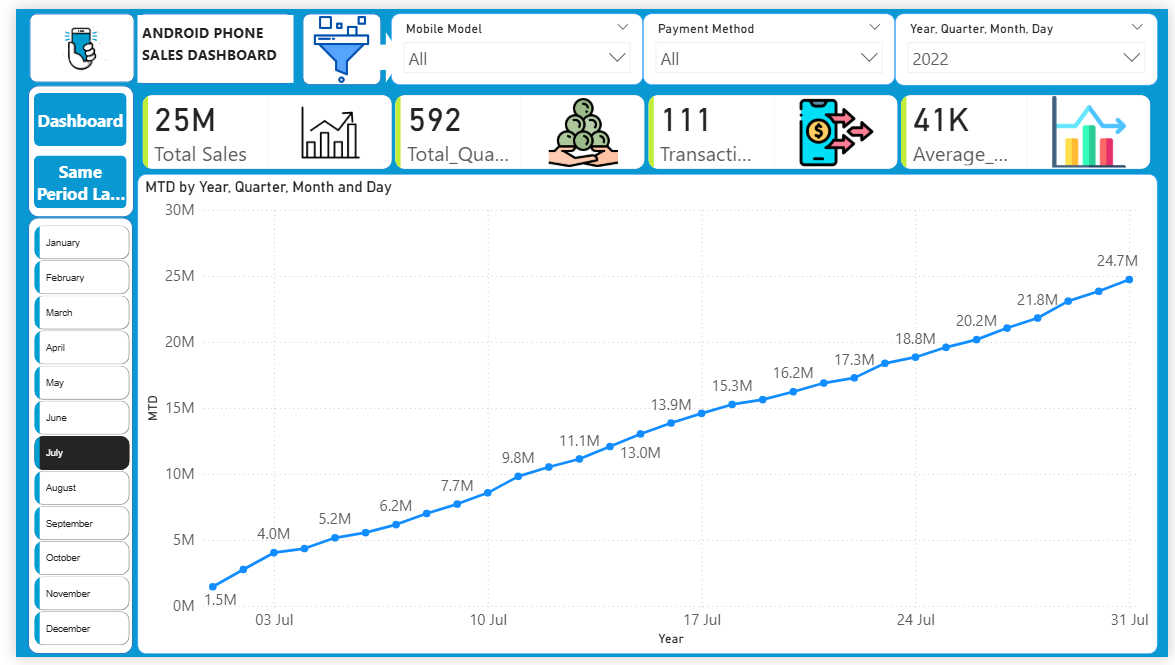

The page's visual inventory and layout, read from the dashboard file:
{"tool":"powerbi","page":{"name":"MTD Report","canvas":[1280,720],"ordinal":1},"visuals":[{"type":"shape","box":[13.3,231.7,116.7,485],"z":0},{"type":"shape","box":[15,5,116.7,76.7],"z":1000},{"type":"image","box":[0,13.3,145,65],"z":2000},{"type":"shape","box":[12.7,84.3,117.7,146.3],"z":3000},{"type":"cardVisual","fields":{"Data":["Android Smartphone Sales Report.Total Sales","Android Smartphone Sales Report.Total_Quantity","Android Smartphone Sales Report.Transactions","Android Smartphone Sales Report.Average_Price"]},"box":[123.3,78.3,1156.7,116.7],"z":4000},{"type":"slicer","fields":{"Values":["Android Smartphone Sales Report.Mobile Model"]},"box":[416.7,4.8,279.9,79.5],"z":5000},{"type":"slicer","fields":{"Values":["Android Smartphone Sales Report.Payment Method"]},"box":[696.7,4.8,279.9,79.5],"z":6000},{"type":"slicer","fields":{"Values":["Custom Calender.Date.Variation.Date Hierarchy.Year","Custom Calender.Date.Variation.Date Hierarchy.Quarter","Custom Calender.Date.Variation.Date Hierarchy.Month","Custom Calender.Date.Variation.Date Hierarchy.Day"]},"box":[976.7,5,291.7,80],"z":7000},{"type":"shape","box":[318.1,4.8,87.5,79.5],"z":8000},{"type":"image","box":[308.6,6.4,106.6,76.3],"z":9000},{"type":"shape","box":[391.3,25.4,38.2,57.3],"z":10000},{"type":"shape","box":[135,5,173.3,78.3],"z":11000},{"type":"textbox","box":[135,6.7,173.3,75],"z":12000},{"type":"lineChart","fields":{"Y":["Android Smartphone Sales Report.MTD"],"Category":["Custom Calender.Date.Variation.Date Hierarchy.Year","Custom Calender.Date.Variation.Date Hierarchy.Quarter","Custom Calender.Date.Variation.Date Hierarchy.Month","Custom Calender.Date.Variation.Date Hierarchy.Day"]},"box":[135,183.3,1133.3,533.3],"z":13000},{"type":"advancedSlicerVisual","fields":{"Values":["Custom Calender.Date.Variation.Date Hierarchy.Month"]},"box":[15,235,116.7,485],"z":14000},{"type":"pageNavigator","box":[20,93.3,103.3,128.3],"z":14001}]}

Visuals, with their boxes in screenshot pixels (x1, y1, x2, y2), scaled from the page's 1280x720 canvas onto the 1175x665 screenshot:
shape: [left=12, top=214, right=119, bottom=662]
shape: [left=14, top=5, right=121, bottom=75]
image: [left=0, top=12, right=133, bottom=72]
shape: [left=12, top=78, right=120, bottom=213]
cardVisual - Android Smartphone Sales Report.Total Sales x Android Smartphone Sales Report.Total_Quantity: [left=113, top=72, right=1174, bottom=180]
slicer - Android Smartphone Sales Report.Mobile Model: [left=383, top=4, right=639, bottom=78]
slicer - Android Smartphone Sales Report.Payment Method: [left=640, top=4, right=896, bottom=78]
slicer - Custom Calender.Date.Variation.Date Hierarchy.Year x Custom Calender.Date.Variation.Date Hierarchy.Quarter: [left=897, top=5, right=1164, bottom=79]
shape: [left=292, top=4, right=372, bottom=78]
image: [left=283, top=6, right=381, bottom=76]
shape: [left=359, top=23, right=394, bottom=76]
shape: [left=124, top=5, right=283, bottom=77]
textbox: [left=124, top=6, right=283, bottom=75]
lineChart - Android Smartphone Sales Report.MTD x Custom Calender.Date.Variation.Date Hierarchy.Year: [left=124, top=169, right=1164, bottom=662]
advancedSlicerVisual - Custom Calender.Date.Variation.Date Hierarchy.Month: [left=14, top=217, right=121, bottom=664]
pageNavigator: [left=18, top=86, right=113, bottom=205]
